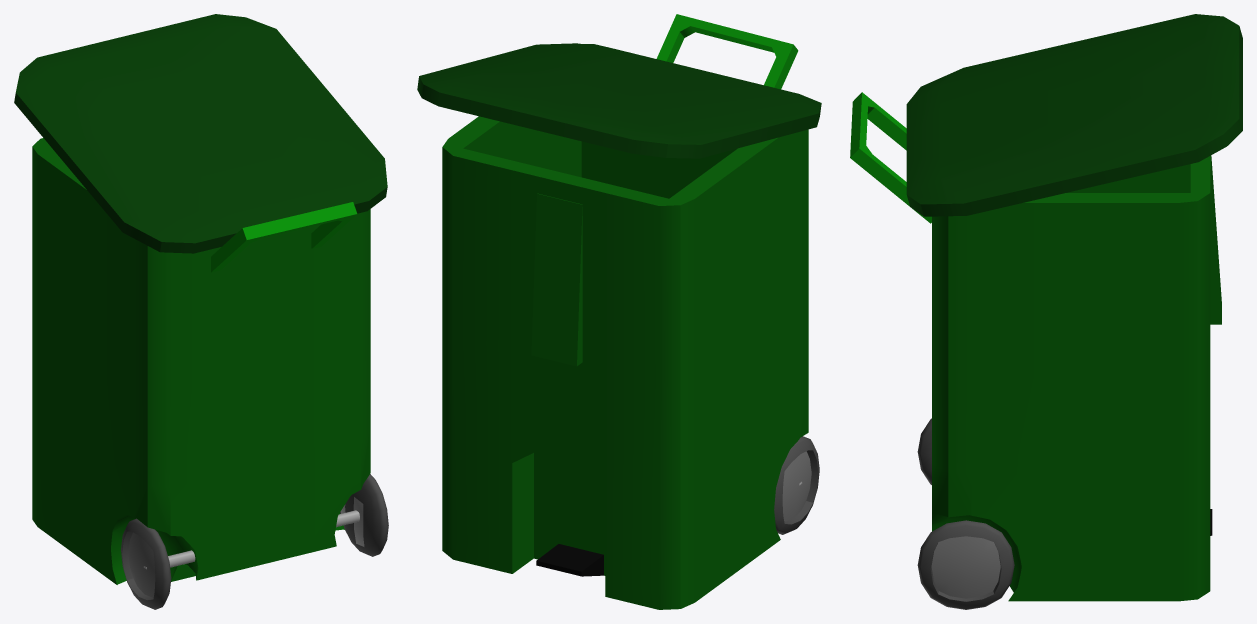
Rendered from Bin.fbx.
3 renders of one model, left to right at view 1: azimuth 30°, elevation 25°; view 2: azimuth 150°, elevation 25°; view 3: azimuth 270°, elevation 25°, orthographic. The views are drawn at different scales.
Parts seen in each view (by area): view 1: Çöp_kovası1, kapak, tekerlek, pCube2, Tekerlek, pCube1; view 2: Çöp_kovası1, kapak, tekerlek, pCube2; view 3: Çöp_kovası1, kapak, Tekerlek, pCube2, tekerlek.
Part boxes in pixels (x1,y1,x2,y2): Çöp_kovası1: (32,138,370,584); kapak: (14,14,387,253); tekerlek: (121,518,171,609); pCube2: (211,202,357,272); Tekerlek: (340,474,388,556); pCube1: (144,510,359,569); Çöp_kovası1: (442,116,808,609); kapak: (417,43,821,158); tekerlek: (774,436,819,534); pCube2: (656,14,798,89); Çöp_kovası1: (932,155,1221,601); kapak: (906,14,1242,216); Tekerlek: (917,520,1014,609); pCube2: (850,92,931,223); tekerlek: (917,418,931,484).
Bounding box in the file's own units: 2.38 × 3.94 × 2.91.
